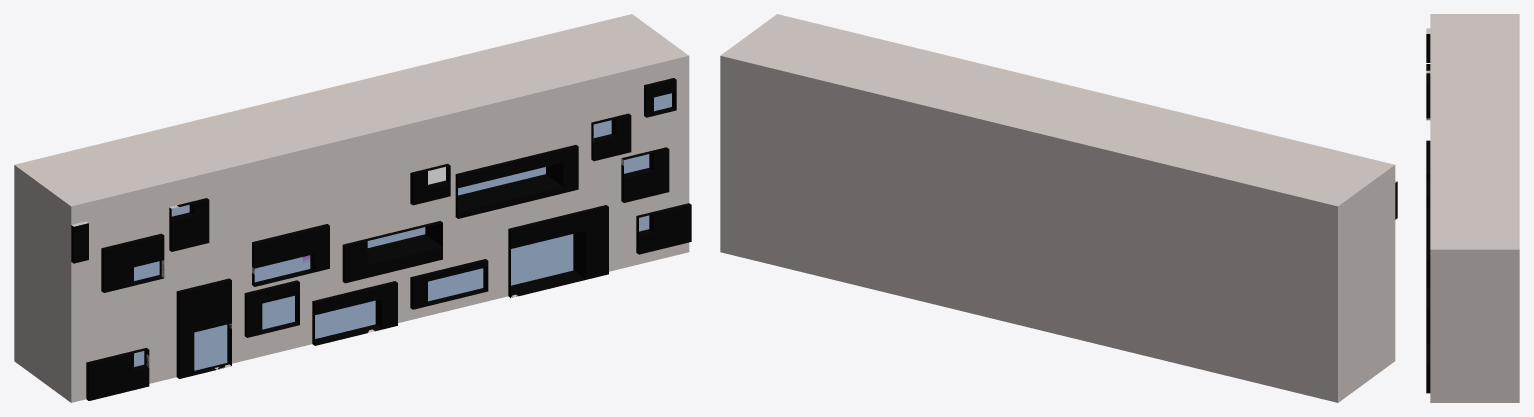
The model's file is Mensa_test.glb.
The picture shows the model from 3 angles, left to right: view 1: azimuth 30°, elevation 25°; view 2: azimuth 150°, elevation 25°; view 3: azimuth 270°, elevation 25°; orthographic projection. The views are drawn at different scales.
Parts seen in each view (by area): view 1: Cube; view 2: Cube; view 3: Cube.
Part boxes in pixels (x1,y1,x2,y2): Cube: (14, 14, 691, 402); Cube: (720, 14, 1397, 402); Cube: (1426, 14, 1519, 402).
Bounding box in the file's own units: 43.62 × 13.25 × 7.29.
